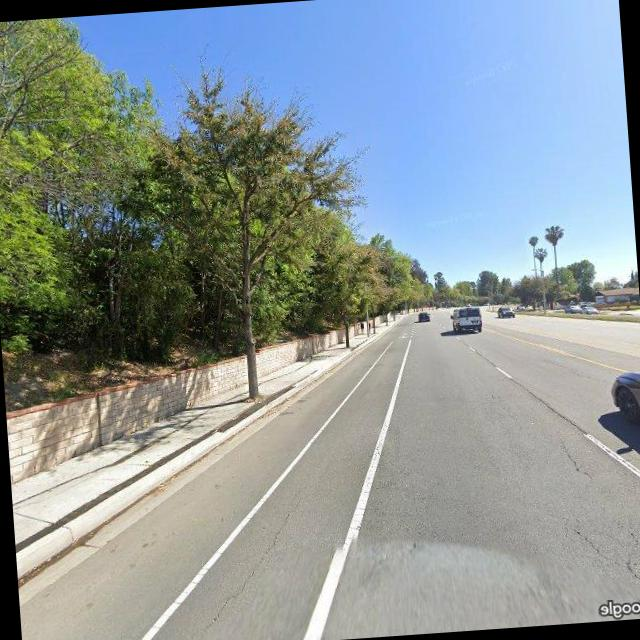crack: (565, 514, 640, 602)
pothole: (200, 489, 315, 626), (558, 430, 592, 480)
